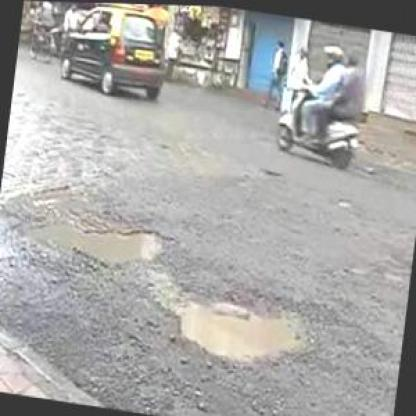pothole: (169, 277, 315, 366), (10, 204, 176, 269)
